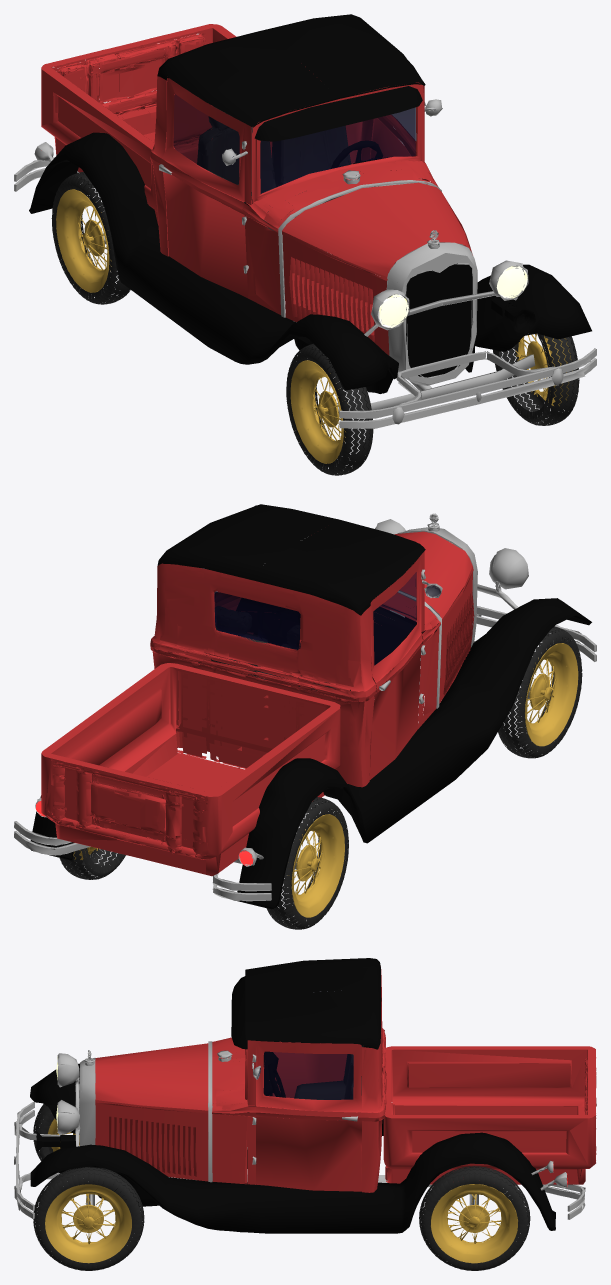
File: ford-model-a-pickup-230811.glb
3 renders of one model, top to bottom at view 1: azimuth 30°, elevation 25°; view 2: azimuth 150°, elevation 25°; view 3: azimuth 270°, elevation 25°, orthographic. The views are drawn at different scales.
Parts seen in each view (by area): view 1: body, wheel-back-right, wheel-front-right, wheel-front-left; view 2: body, wheel-front-right, wheel-back-right; view 3: body, wheel-back-left, wheel-front-left.
Part boxes in pixels (x1=…): body: x1=14, y1=14, x2=596, y2=475; wheel-back-right: x1=56, y1=189, x2=111, y2=292; wheel-front-right: x1=290, y1=360, x2=347, y2=463; wheel-front-left: x1=515, y1=333, x2=572, y2=406; body: x1=14, y1=504, x2=596, y2=929; wheel-front-right: x1=521, y1=643, x2=578, y2=746; wheel-back-right: x1=287, y1=814, x2=344, y2=917; body: x1=14, y1=958, x2=596, y2=1270; wheel-back-left: x1=430, y1=1184, x2=517, y2=1263; wheel-front-left: x1=45, y1=1184, x2=131, y2=1263.
Bounding box in the file's own units: 2.04 × 2.19 × 4.85.
